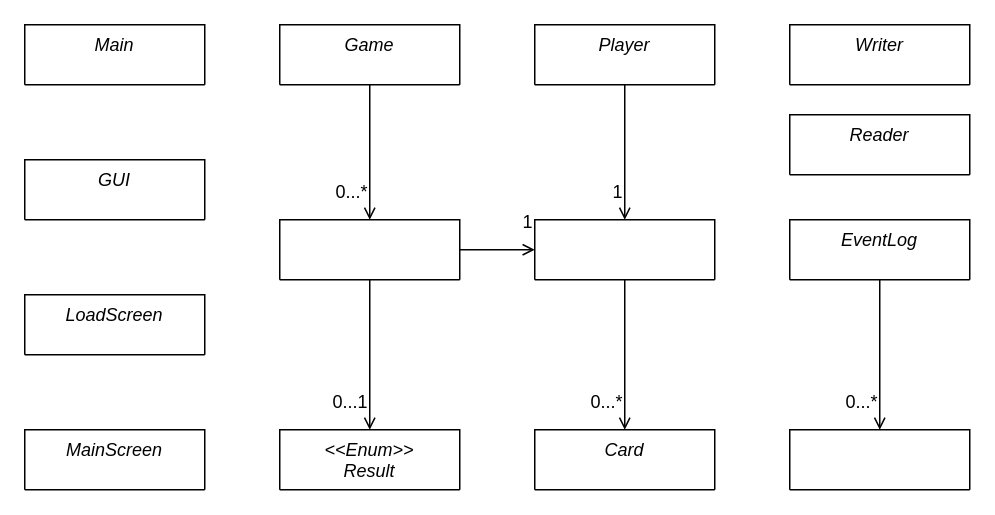
Image size: 995x515. Some labels were removed from this diagram. The centre of each missing label's shape, as x and y in pixels:
"Event" belongs at pixel 879 459.
"Hand" belongs at pixel 624 249.
"Round" belongs at pixel 369 249.
